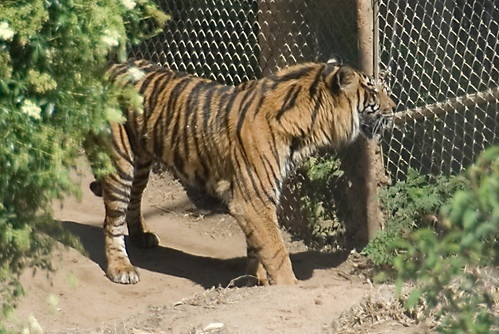tigre: (82, 57, 396, 284)
